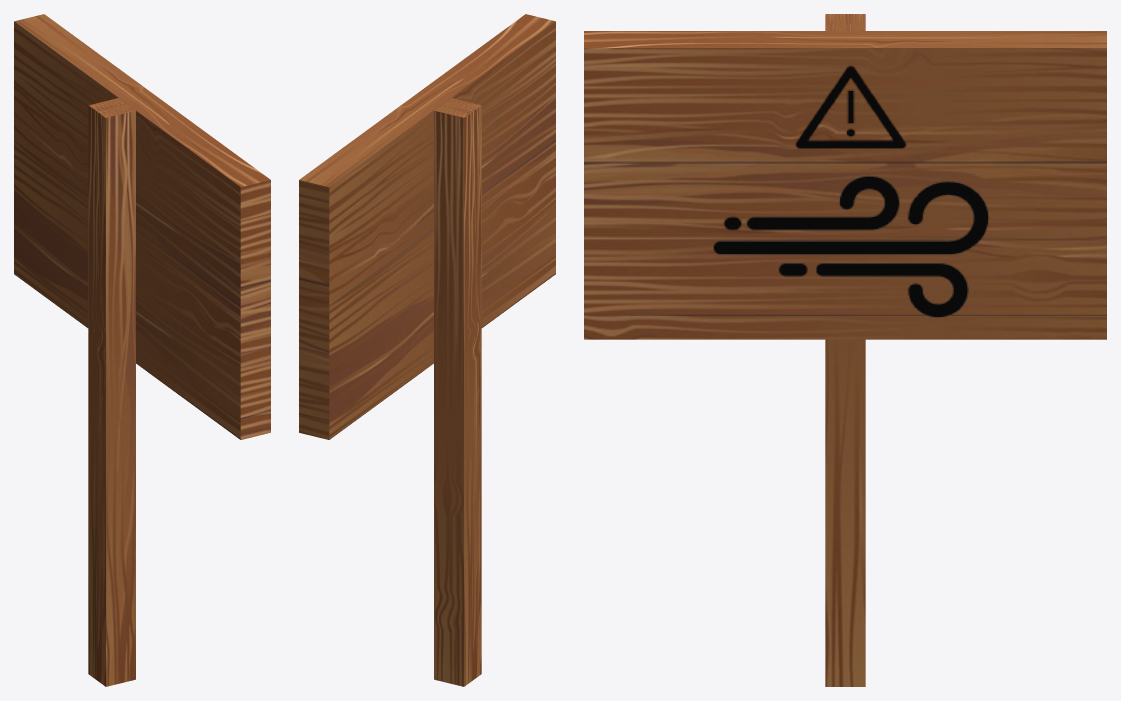
File: placa.fbx
The picture shows the model from 3 angles, left to right: view 1: azimuth 30°, elevation 25°; view 2: azimuth 150°, elevation 25°; view 3: azimuth 270°, elevation 25°; orthographic projection. The views are drawn at different scales.
Visible parts, largest first — view 1: pCube1; view 2: pCube1; view 3: pCube1.
Part boxes in pixels (x1,y1,x2,y2): pCube1: (14,14,270,686); pCube1: (299,14,555,686); pCube1: (584,14,1106,686).
Bounding box in the file's own units: 1 × 9 × 6.5.
